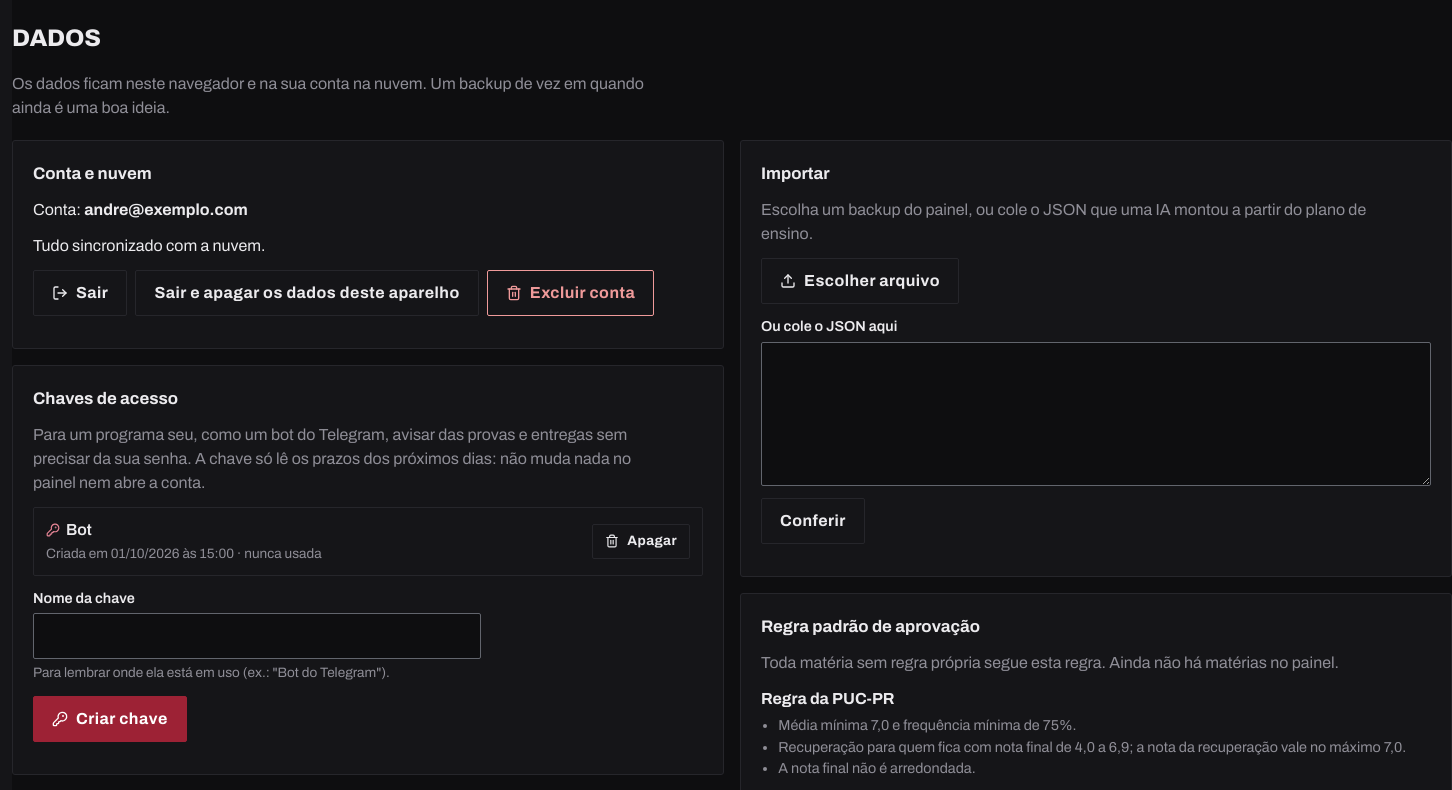
SecaoChaves › apaga em 2 passos
Click the button with aria-label "Apagar a chave Bot": coordinates (641, 541) [592,524,690,559]
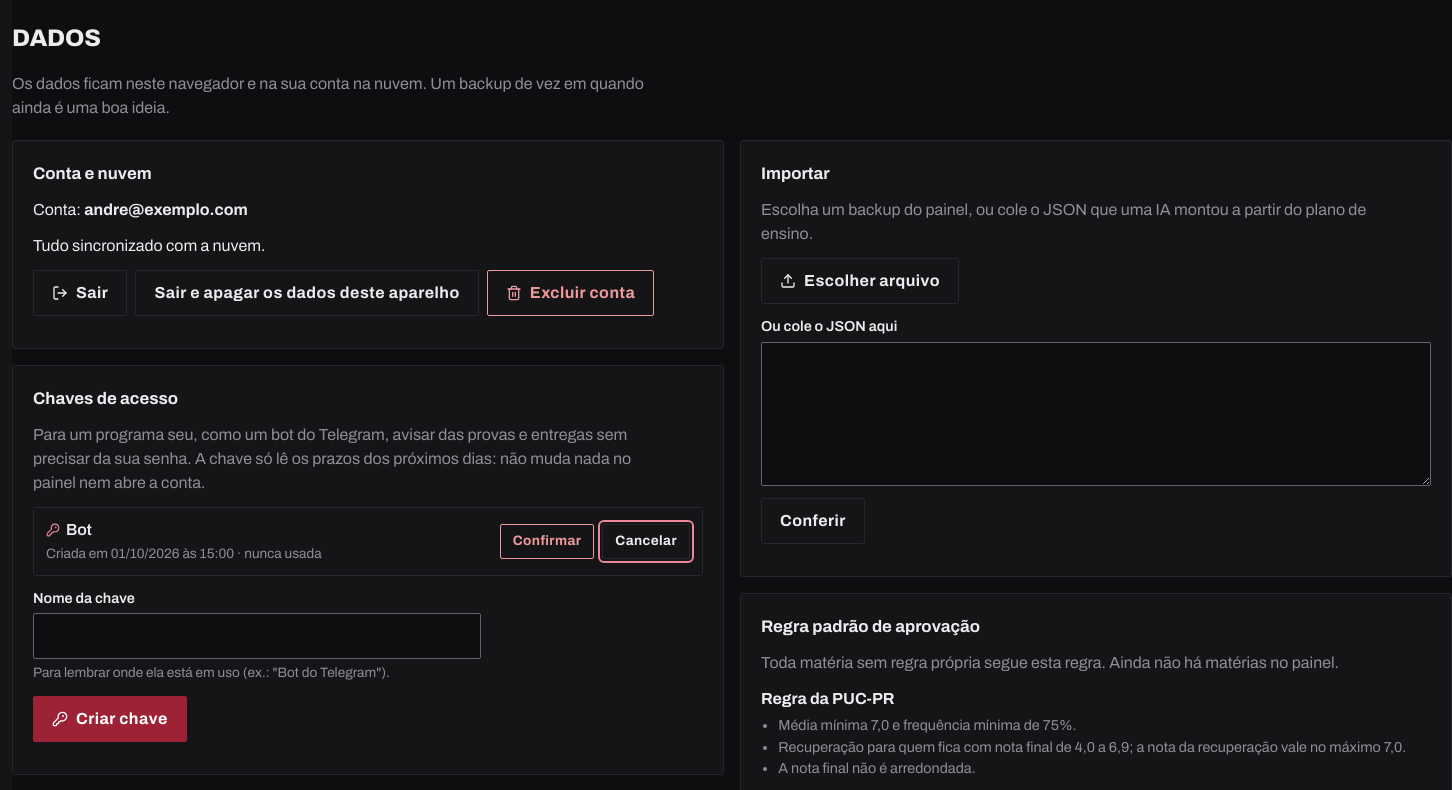
Click the button with aria-label "Confirmar remoção de a chave Bot": coordinates (547, 541) [500,524,594,559]
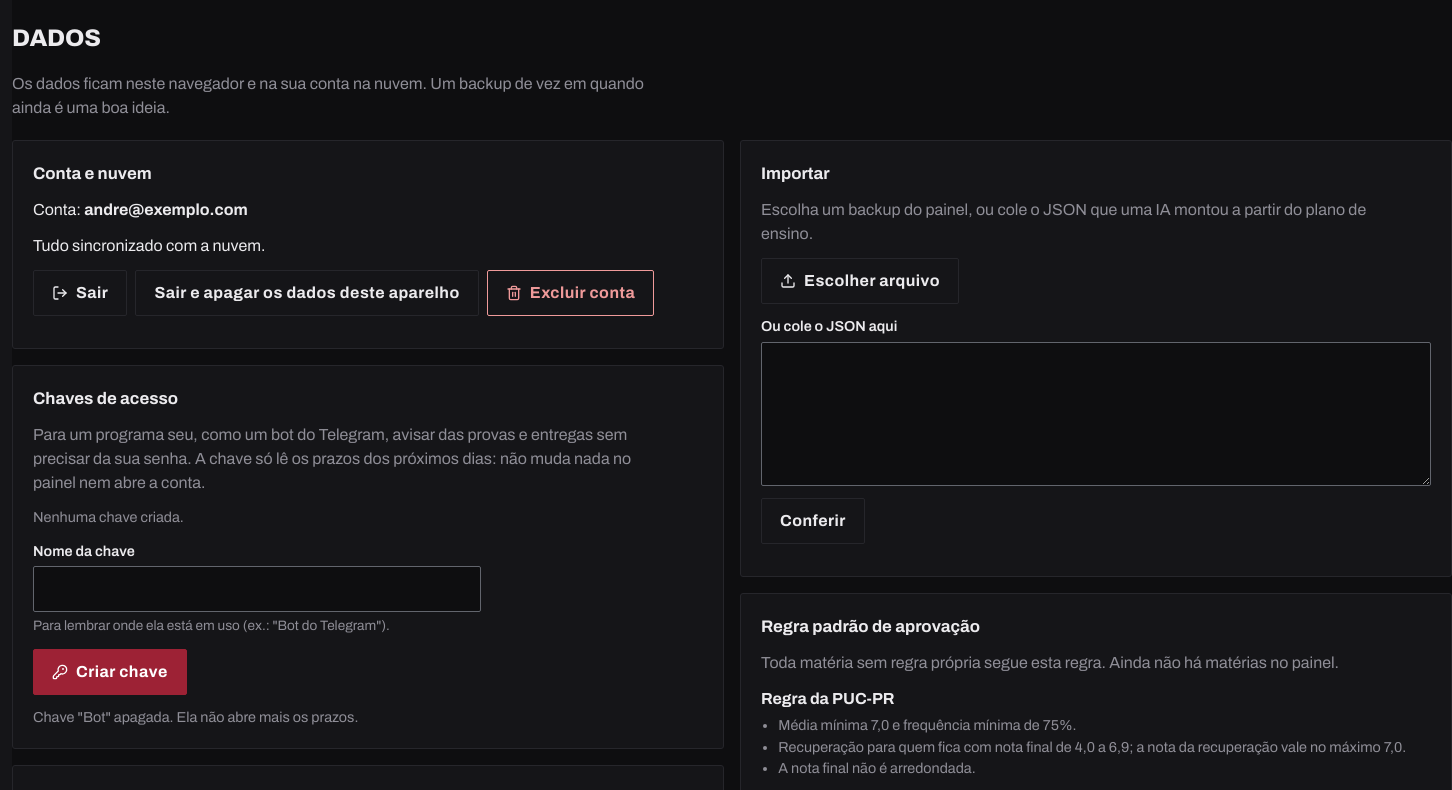
Check: the text "Nenhuma chave criada." is shown, box [33,507,184,529]
Check: the text "Chave \"Bot\" apagada. Ela não abre mais os prazos." is shown, box [33,707,358,728]
